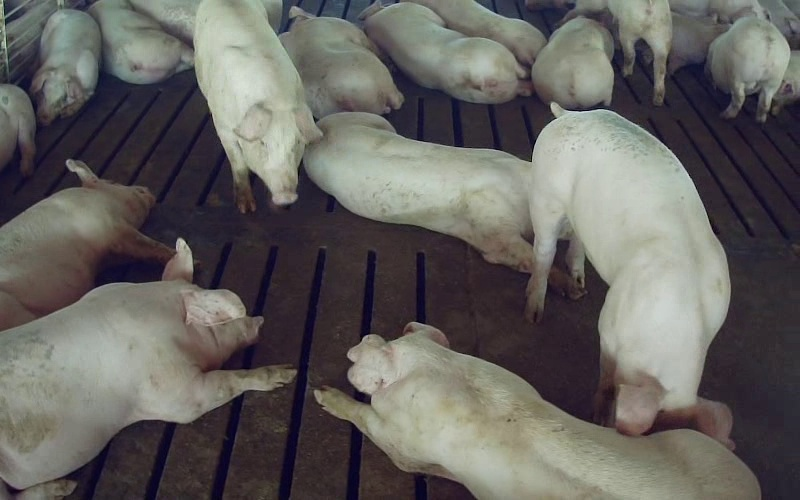pig: (314, 323, 759, 499), (0, 239, 295, 499), (526, 104, 732, 446), (304, 113, 532, 271), (0, 160, 173, 329), (194, 0, 320, 212), (360, 2, 530, 103), (279, 7, 403, 118), (560, 0, 671, 105), (409, 0, 546, 67), (705, 17, 789, 122), (88, 0, 193, 83), (30, 9, 100, 124), (532, 16, 613, 109)
